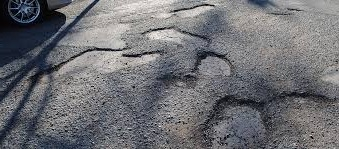pothole: (23, 45, 164, 85), (202, 95, 267, 148), (273, 93, 333, 145), (190, 45, 237, 84), (138, 28, 216, 46), (171, 1, 216, 21), (157, 67, 190, 90)
